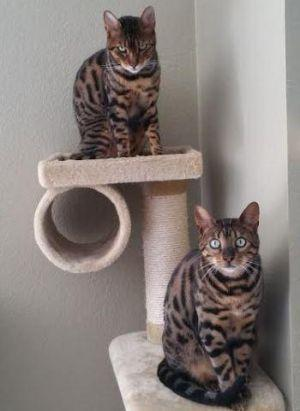bengal: (190, 196, 269, 285)
